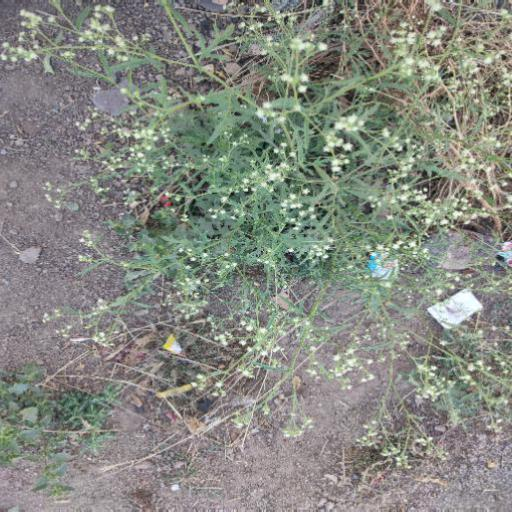weed: (90, 1, 496, 461)
